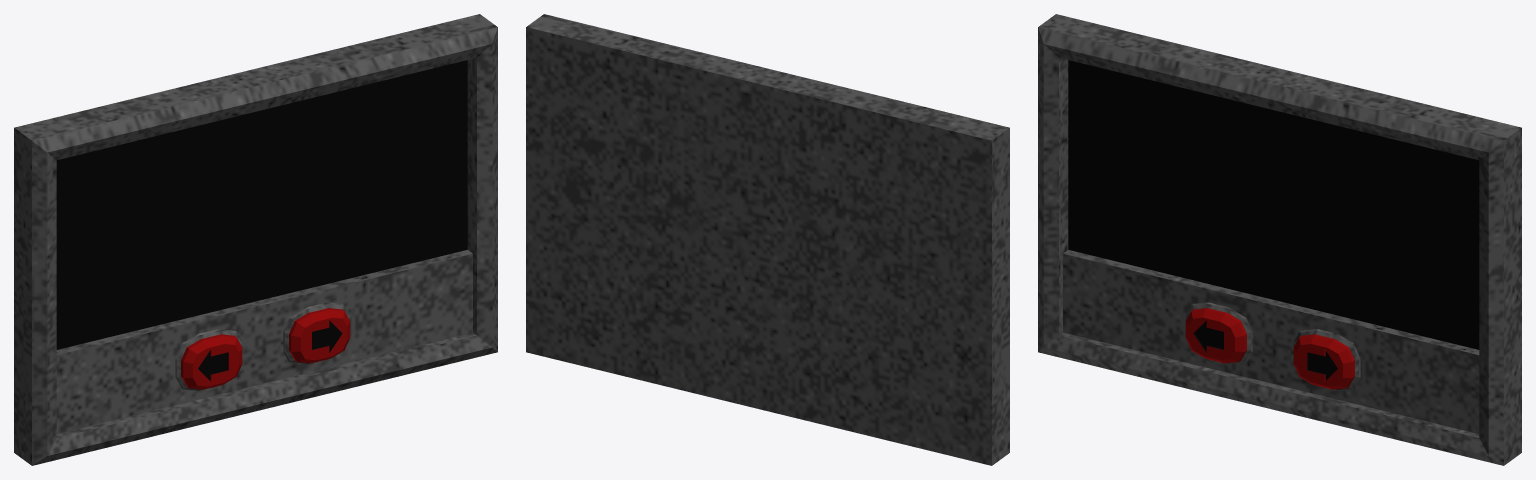
Rendered from moni.fbx.
3 views of the same model, side by side, from view 1: azimuth 30°, elevation 25°; view 2: azimuth 150°, elevation 25°; view 3: azimuth 330°, elevation 25° (orthographic).
Visible parts, largest first — view 1: Cube.021, Cube.027, Cube.031; view 2: Cube.021; view 3: Cube.021, Cube.031, Cube.027.
Boxes of the visible parts, x1=… form: Cube.021: x1=14, y1=14, x2=497, y2=465; Cube.027: x1=181, y1=334, x2=242, y2=389; Cube.031: x1=289, y1=308, x2=350, y2=363; Cube.021: x1=526, y1=14, x2=1009, y2=465; Cube.021: x1=1038, y1=14, x2=1521, y2=465; Cube.031: x1=1293, y1=334, x2=1354, y2=389; Cube.027: x1=1185, y1=308, x2=1246, y2=363.
Size of the model in its own units: 300 by 200 by 25.85.
